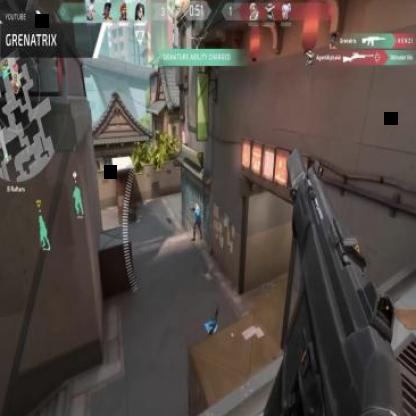enemy: (192, 202, 202, 242)
enemy_head: (194, 203, 198, 210)
